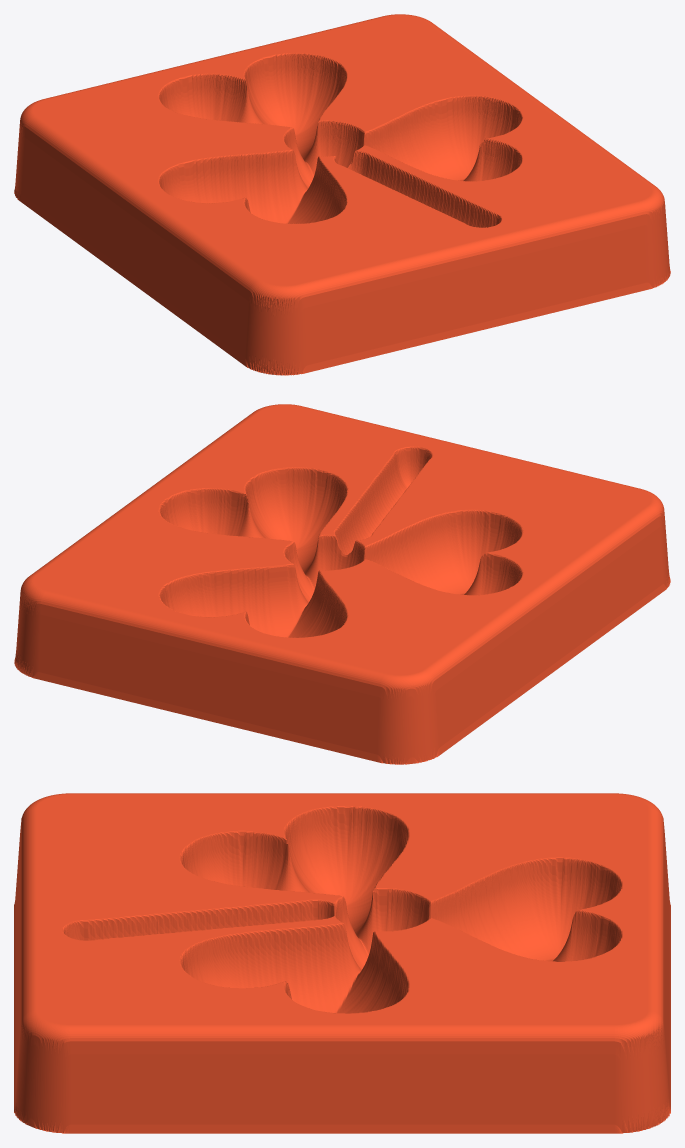
File: mold.glb
The picture shows the model from 3 angles, top to bottom: view 1: azimuth 30°, elevation 25°; view 2: azimuth 150°, elevation 25°; view 3: azimuth 270°, elevation 25°; orthographic projection. The views are drawn at different scales.
Parts seen in each view (by area): view 1: geometry_0; view 2: geometry_0; view 3: geometry_0.
Part boxes in pixels (box(x1,y1,x2,y2)): geometry_0: box(14, 14, 670, 375); geometry_0: box(14, 404, 670, 764); geometry_0: box(14, 793, 670, 1133).
Bounding box in the file's own units: 0.0942 × 0.0175 × 0.105.
